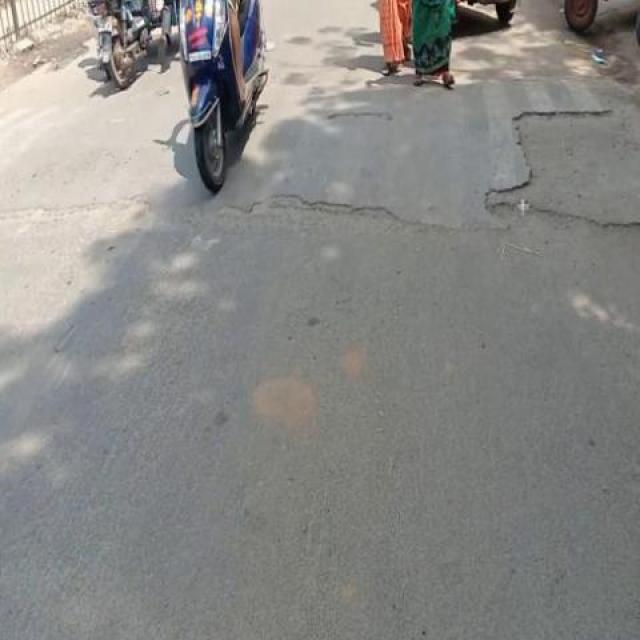Pothole: (478, 104, 640, 230), (212, 192, 458, 240), (312, 96, 409, 130)
Speed Bump: (266, 75, 640, 236), (0, 68, 189, 212)
